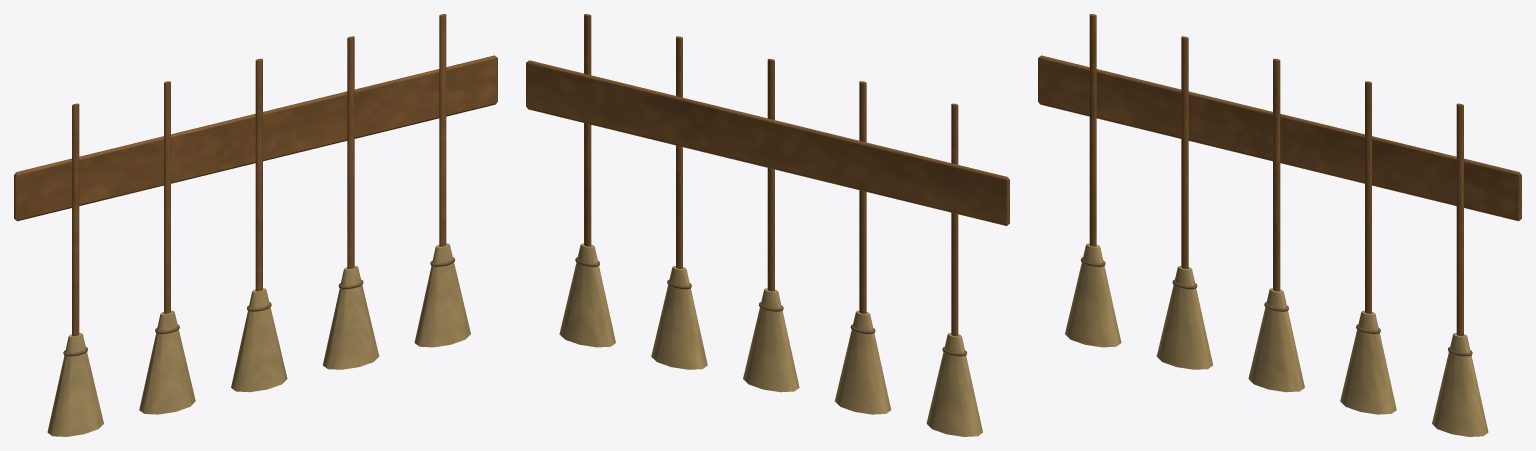
Rendered from Furn_BroomWall.fbx.
The picture shows the model from 3 angles, left to right: view 1: azimuth 30°, elevation 25°; view 2: azimuth 150°, elevation 25°; view 3: azimuth 330°, elevation 25°; orthographic projection.
Parts seen in each view (by area): view 1: Furn_BroomWall_Mesh; view 2: Furn_BroomWall_Mesh; view 3: Furn_BroomWall_Mesh.
Boxes of the visible parts, x1=… form: Furn_BroomWall_Mesh: x1=14, y1=14, x2=497, y2=436; Furn_BroomWall_Mesh: x1=526, y1=14, x2=1009, y2=436; Furn_BroomWall_Mesh: x1=1038, y1=14, x2=1521, y2=436.
Bounding box in the file's own units: 2.5 × 1.6 × 0.15.
3 materials, 3 textured.
